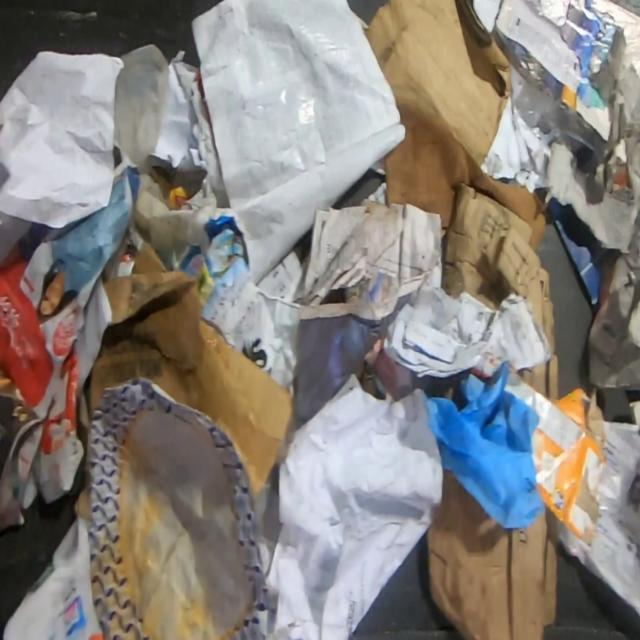cardboard: (88, 239, 293, 499), (364, 1, 547, 282), (440, 183, 559, 398), (426, 467, 560, 640), (503, 373, 606, 550)
